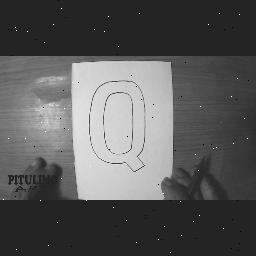q: (80, 78, 154, 174)
